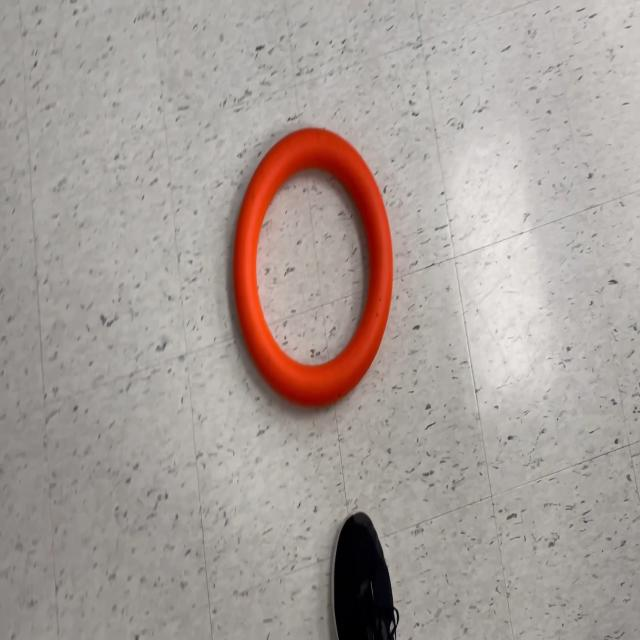note: (231, 126, 394, 410)
